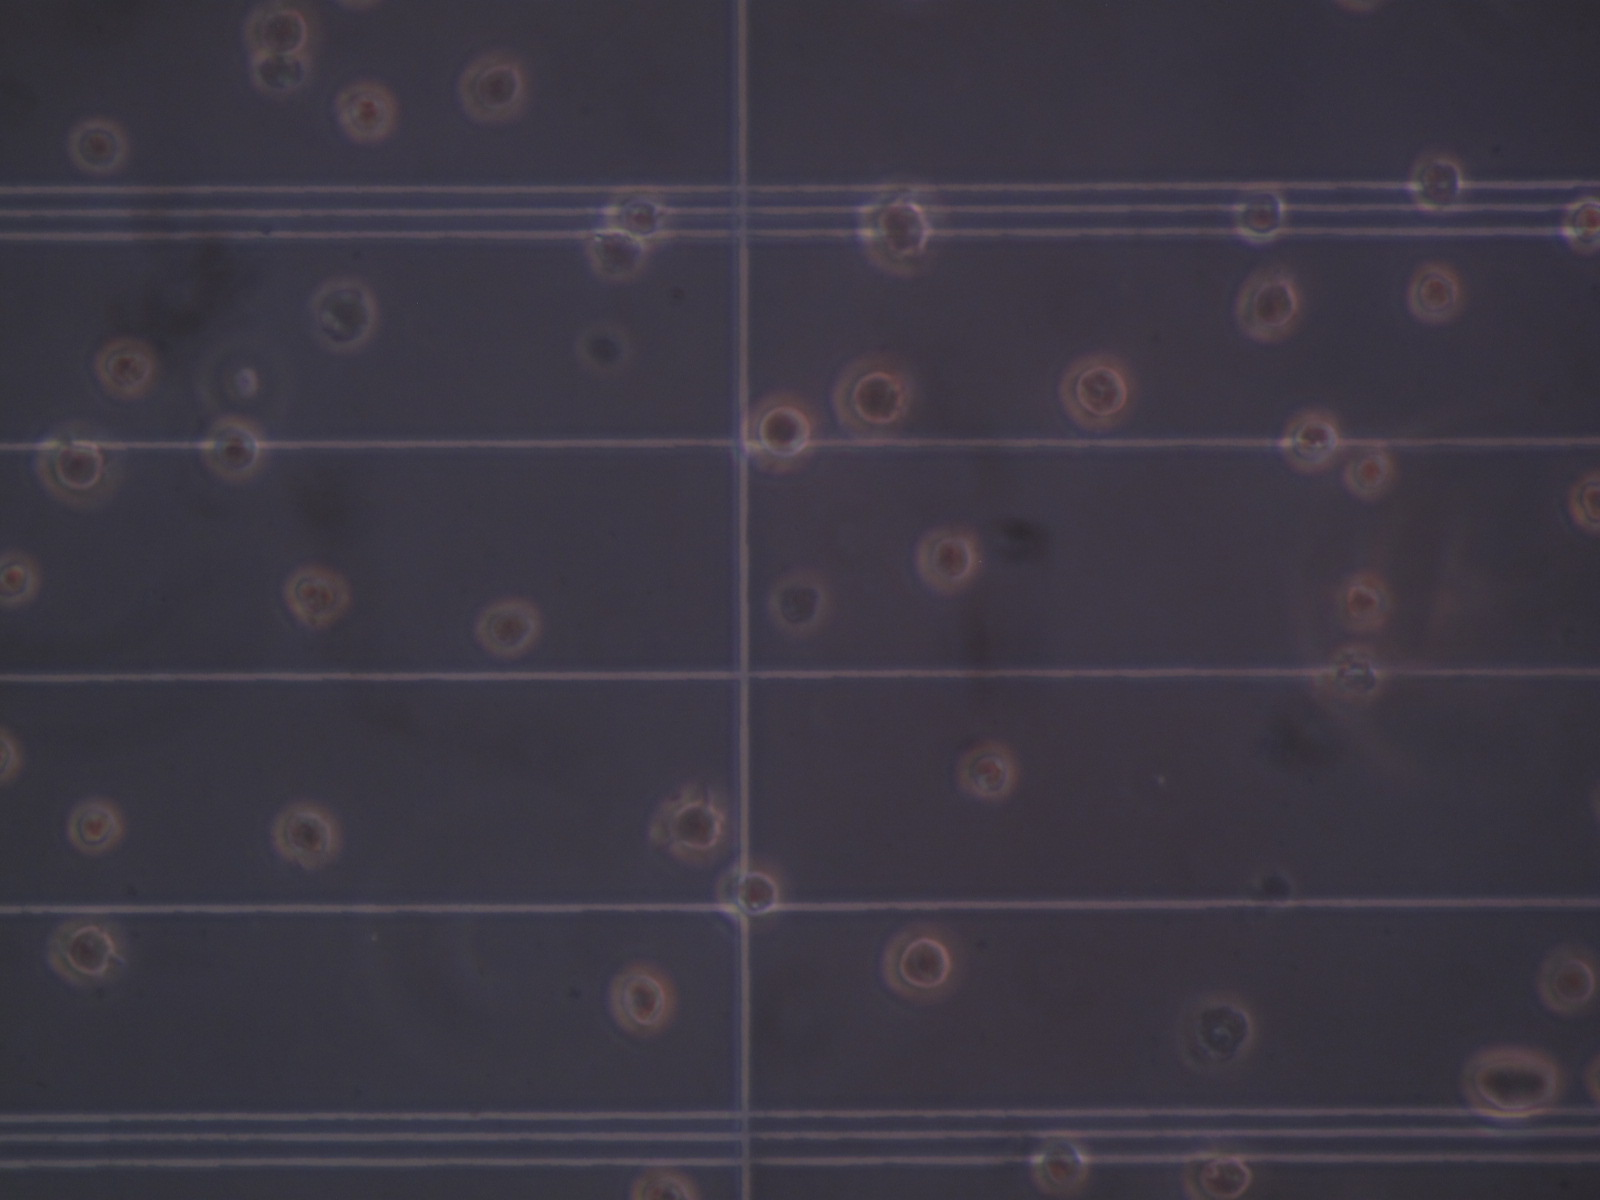hemo: (858, 171, 949, 282), (37, 418, 125, 512), (1461, 1046, 1561, 1128), (881, 921, 965, 1005), (833, 355, 913, 437), (741, 393, 819, 478), (1058, 353, 1138, 434), (653, 787, 732, 865), (47, 919, 130, 989), (913, 524, 984, 601), (309, 274, 377, 353), (606, 963, 677, 1037), (1232, 270, 1301, 345), (767, 563, 834, 642), (716, 858, 782, 937), (459, 52, 527, 122), (198, 416, 263, 484), (1534, 945, 1595, 1018), (1277, 407, 1340, 475), (283, 566, 353, 626), (474, 597, 542, 657), (94, 339, 157, 402), (273, 803, 339, 863), (955, 740, 1015, 803), (1031, 1139, 1092, 1199), (335, 84, 398, 142), (1180, 1151, 1254, 1200), (1407, 153, 1463, 217), (585, 229, 648, 285), (1327, 645, 1386, 703), (1407, 262, 1460, 325), (607, 194, 670, 247), (71, 118, 130, 174), (243, 8, 307, 57), (1335, 572, 1387, 633), (1233, 187, 1286, 245), (69, 797, 121, 855), (1346, 447, 1396, 503), (253, 53, 309, 98), (1, 550, 40, 609), (629, 1167, 698, 1200), (1561, 199, 1600, 255), (1566, 471, 1600, 534)
